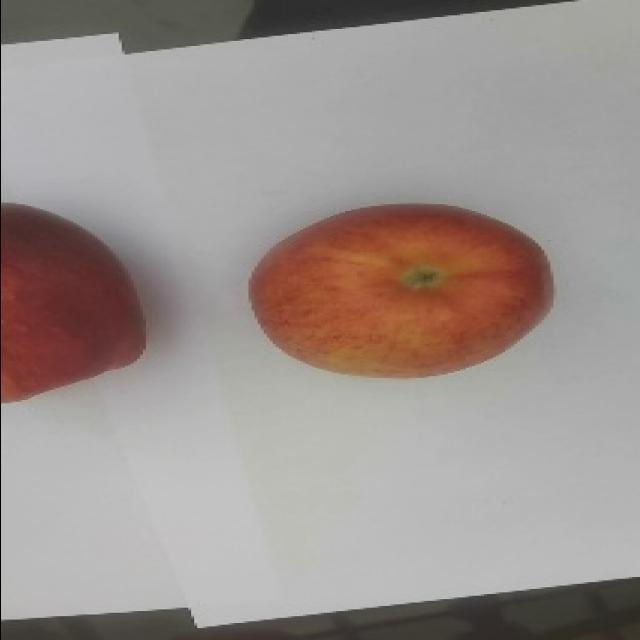Apple: (247, 201, 554, 379), (0, 201, 147, 403)
